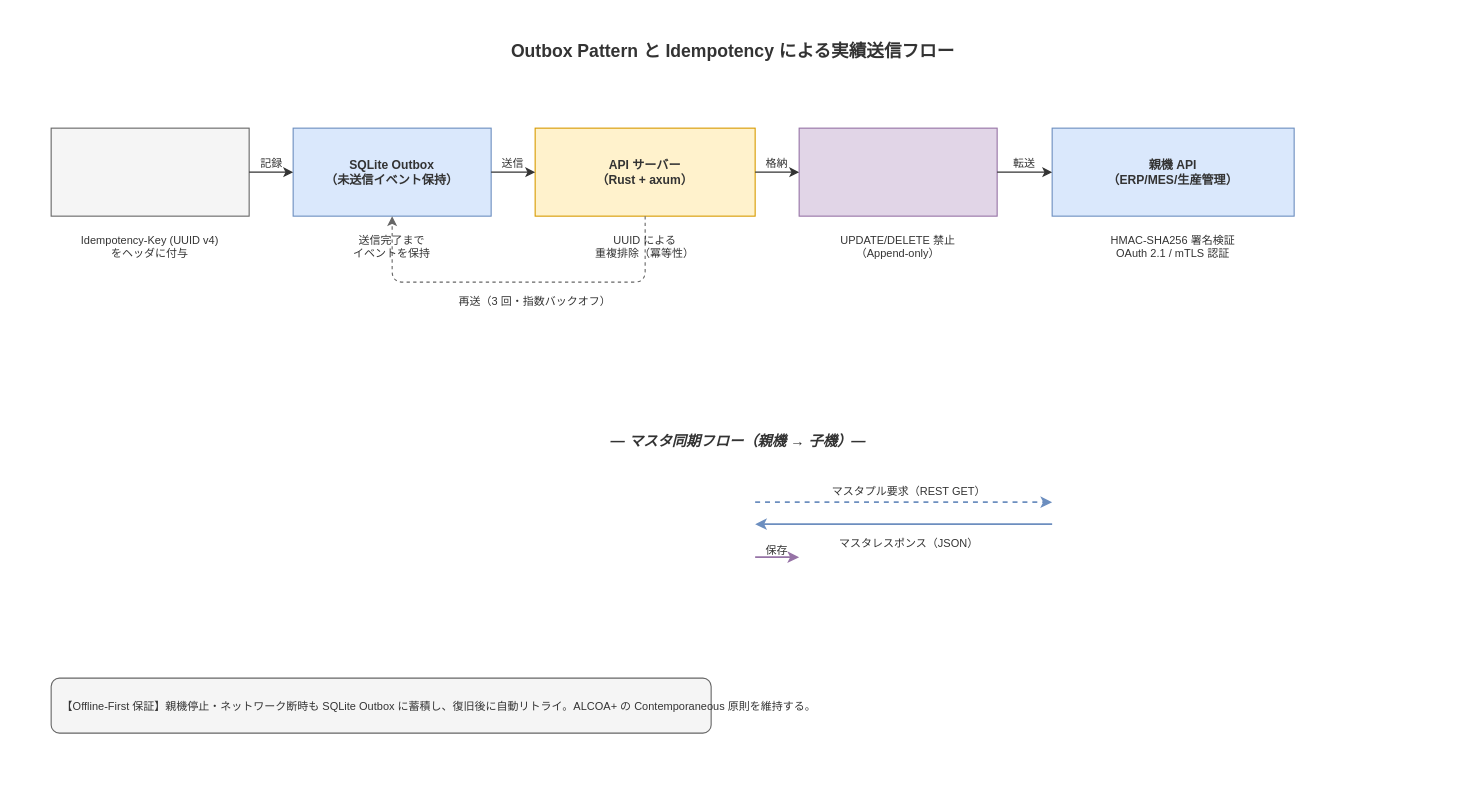
Some shapes in this 1466 by 806 pixel diagram are drawn without their labels. Each missing label, with the centre of its shape:
"PostgreSQL （Append-only イベントストア）" belongs at (x=897, y=171).
"タブレット APP （React Native）" belongs at (x=149, y=171).
